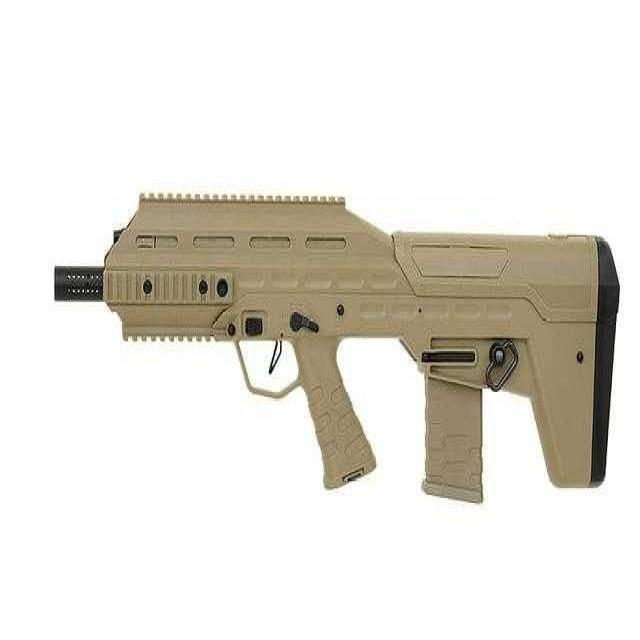weapon: (34, 127, 634, 544)
